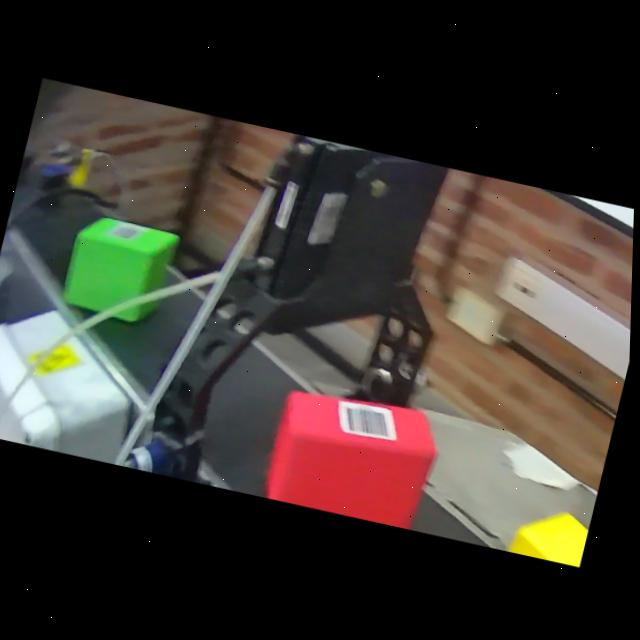greenBox: (57, 207, 185, 332)
redBox: (260, 374, 451, 531)
yellowBox: (490, 489, 596, 566)
